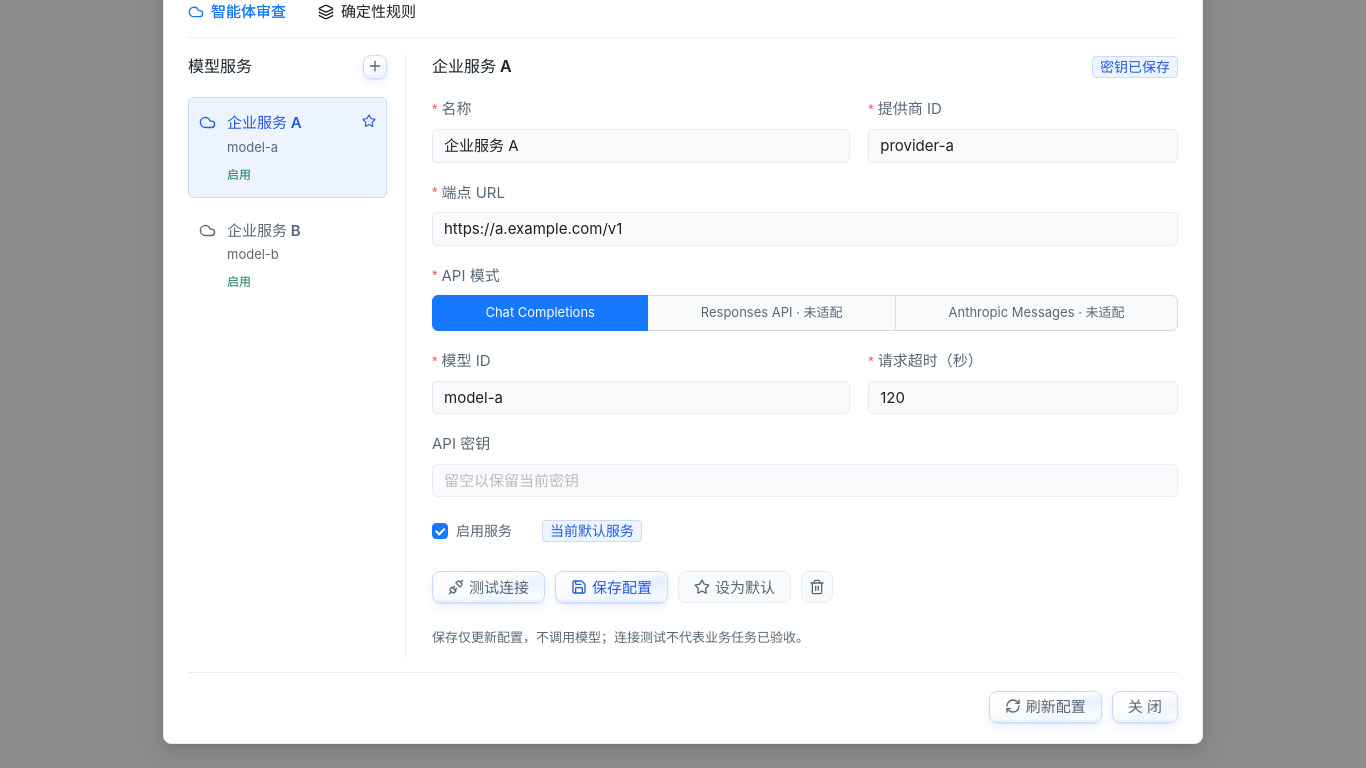
Test: multi-provider configuration actions › requires separate cost confirmation for a connection test
The image size is (1366, 768).
(page scrolled)
Expected: the field showing "企业服务 A" is shown, [432,129,850,162]
Expected: the button "保存配置" is enabled, [555,571,668,603]
Click the button "测试连接".
click(488, 587)  # box [432,571,545,603]
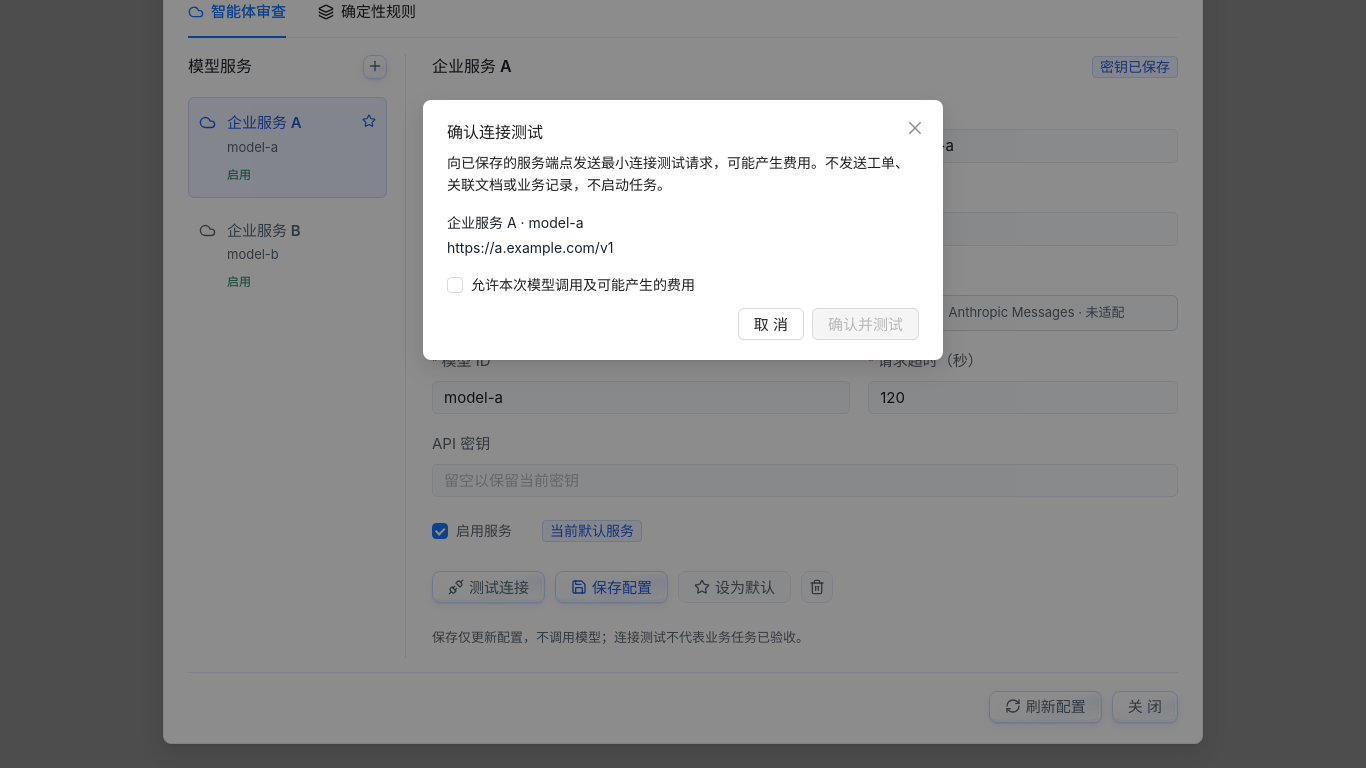
Expected: the button "确认并测试" is disabled, [812,308,919,340]
Click the checkbox labelled "允许本次模型调用及可能产生的费用".
click(575, 285)  # box [447,274,703,296]
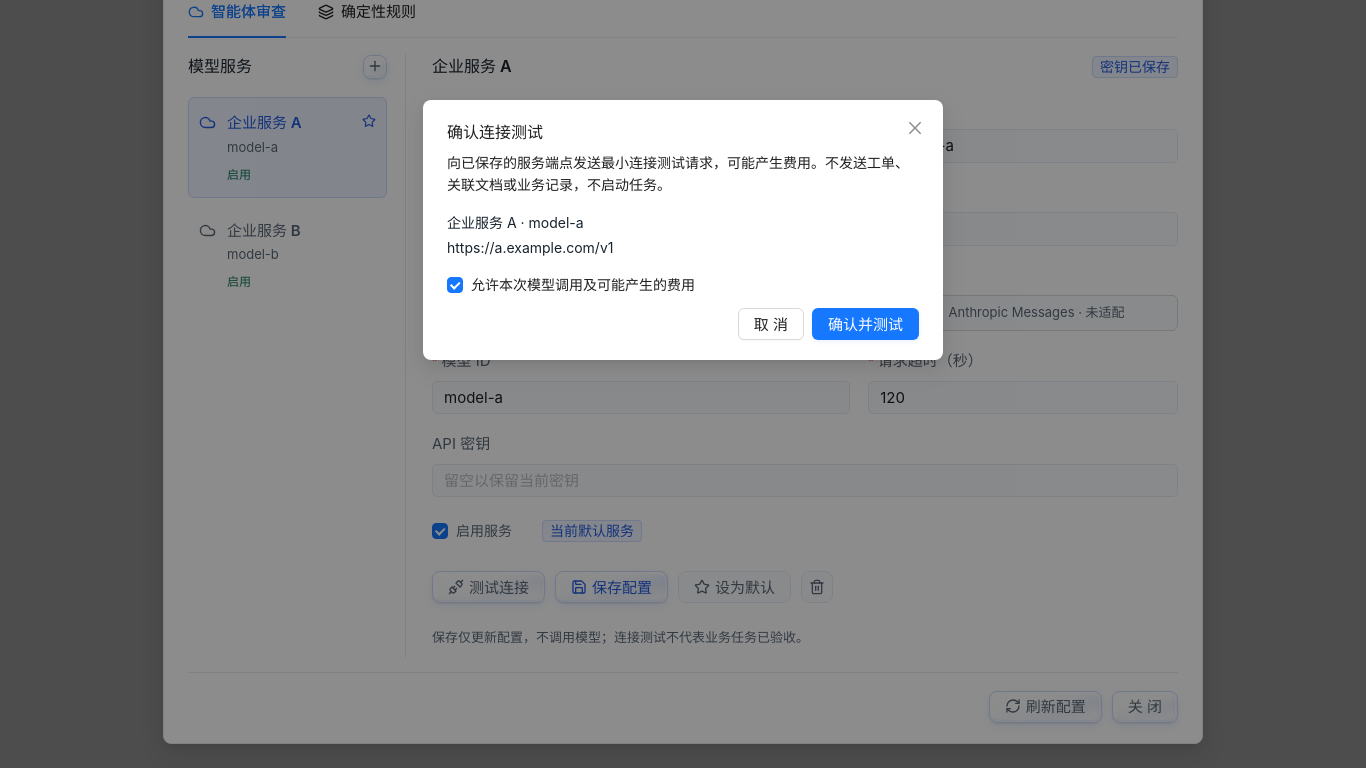
Click the button "确认并测试".
click(866, 324)  # box [812,308,919,340]
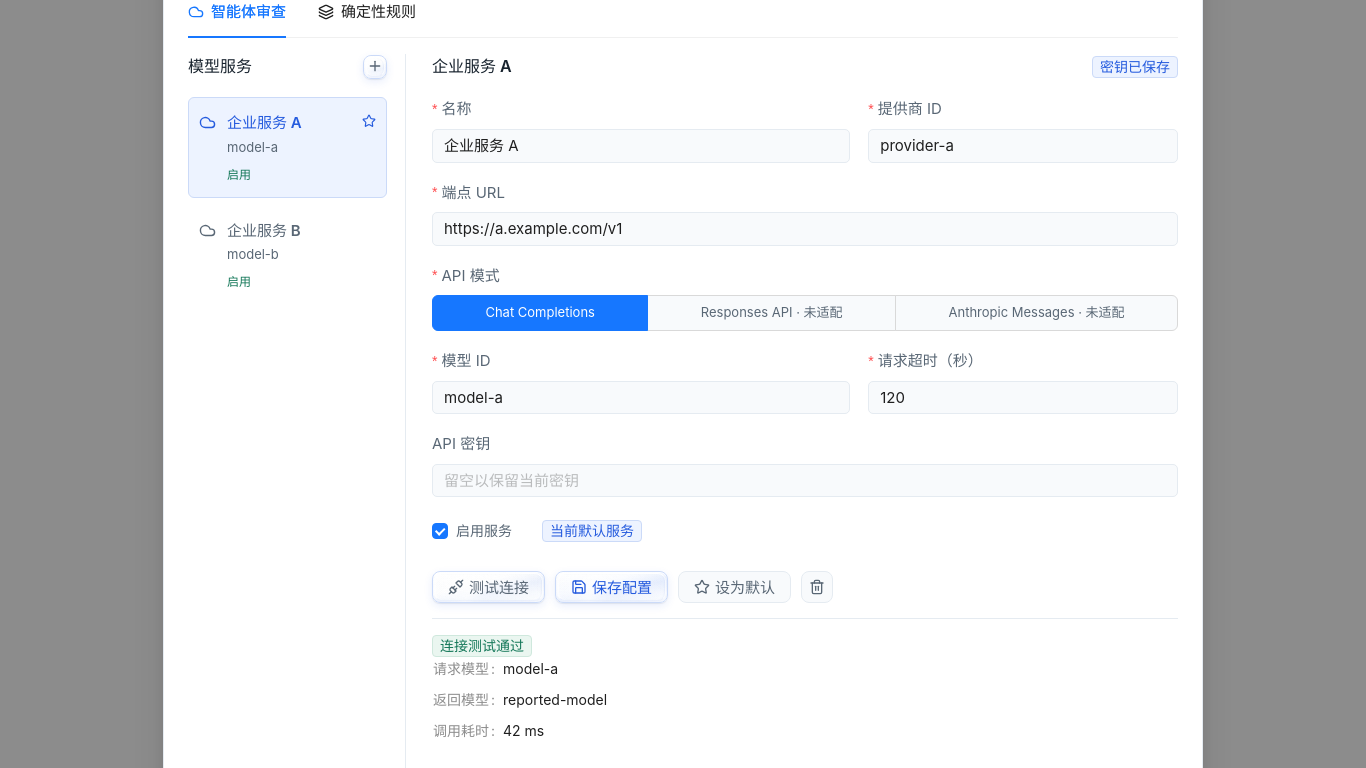
Expected: the text "连接测试通过" is shown, [432,635,532,657]
Expected: the element named "连接测试结果" shows "model-a", [503,660,558,677]
Expected: the element named "连接测试结果" shows "reported-model", [503,691,607,708]
